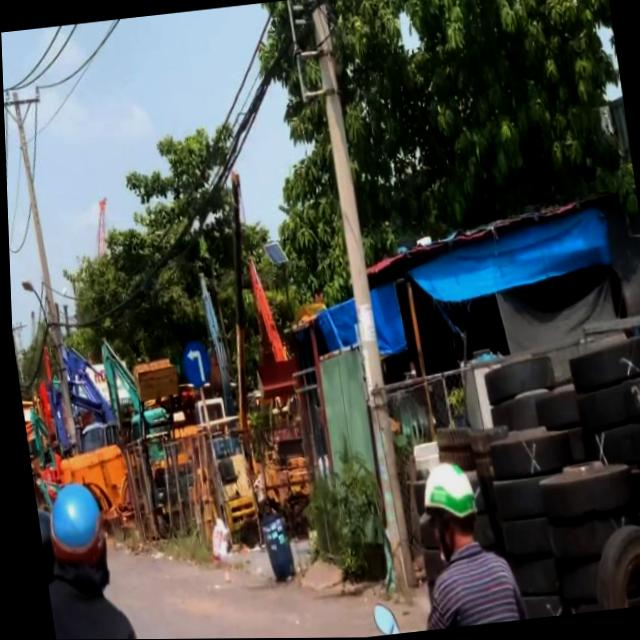Cac xe chi duoc re trai: (175, 338, 211, 391)
